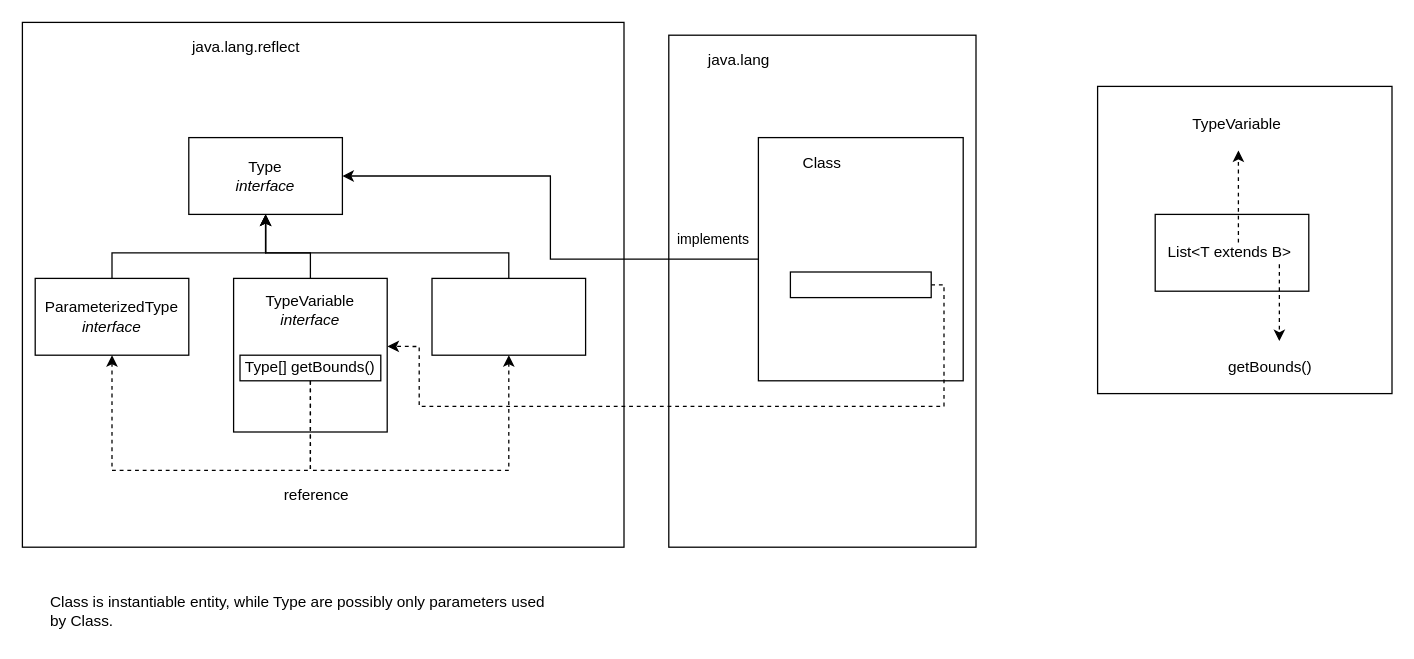
The diagram is 1414 pixels wide and 659 high, and some of its shapes have lost their labels. Each missing label, with the centre of its shape:
"getTyeParamters()" goes at point (860, 284).
"WildcardType interface" goes at point (508, 316).
